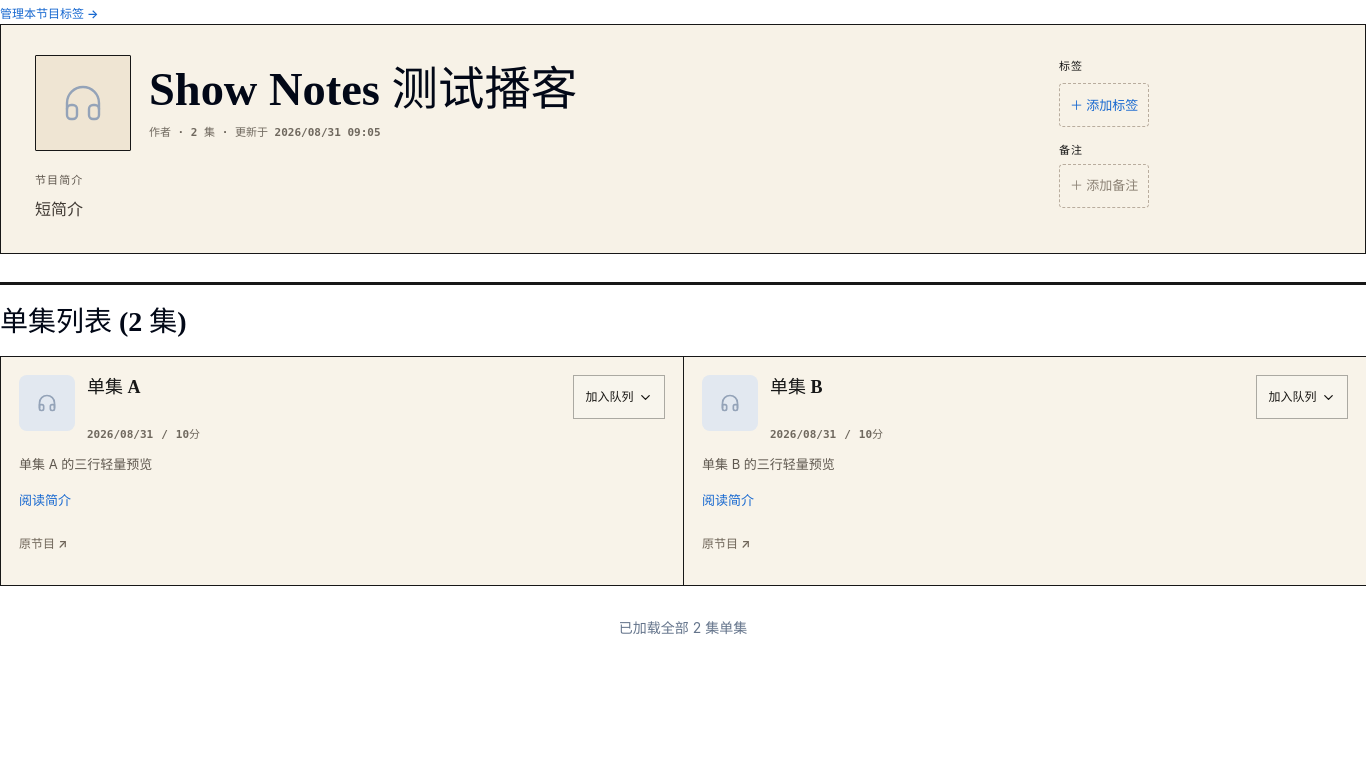
Test: podcast detail Show Notes user flow › keeps a late A response from replacing the active B card or reopening a collapsed card
Click the button "阅读简介" below "单集 A 的三行轻量预览" at (45, 500), box [19, 478, 71, 522]
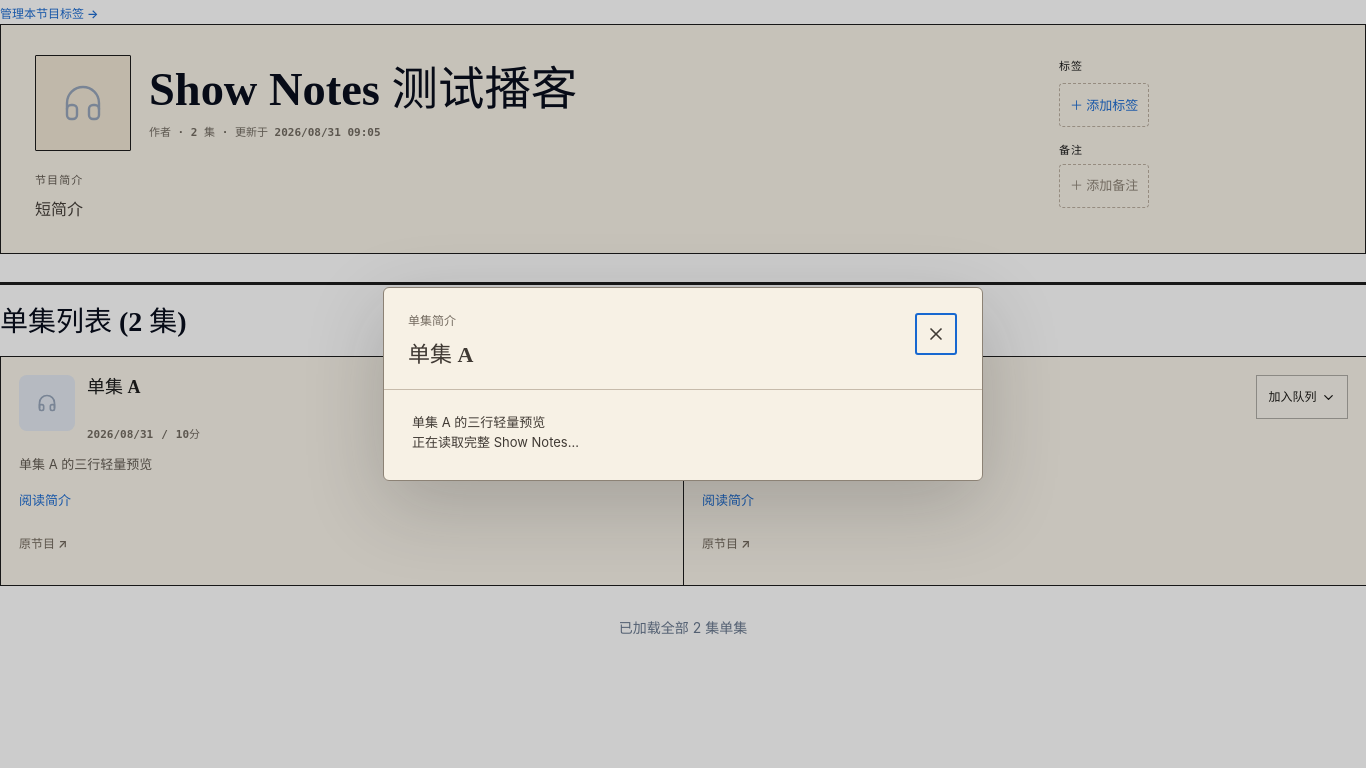
Click the button named "关闭简介" at (936, 334), box [914, 312, 958, 356]
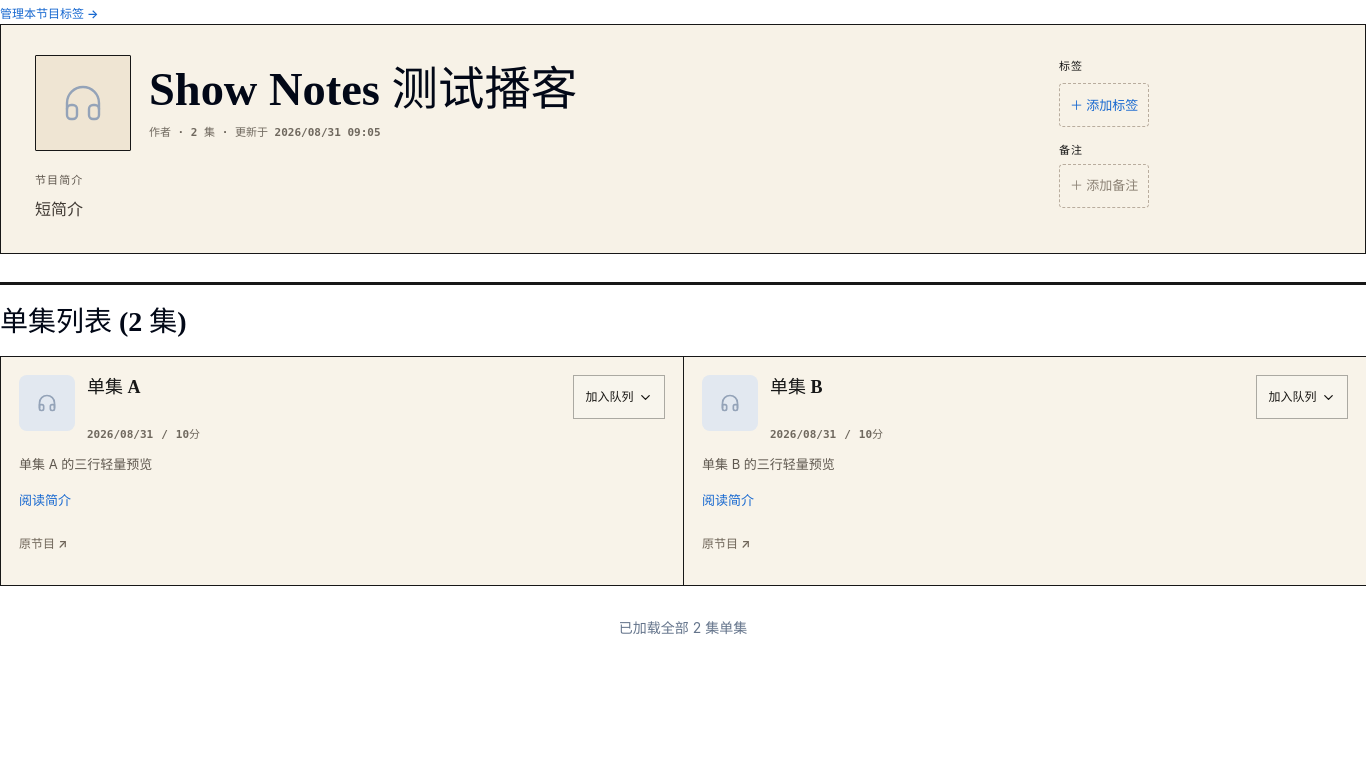
Now the dialog is gone
Click the button "阅读简介" below "单集 B 的三行轻量预览" at (728, 500), box [702, 478, 754, 522]
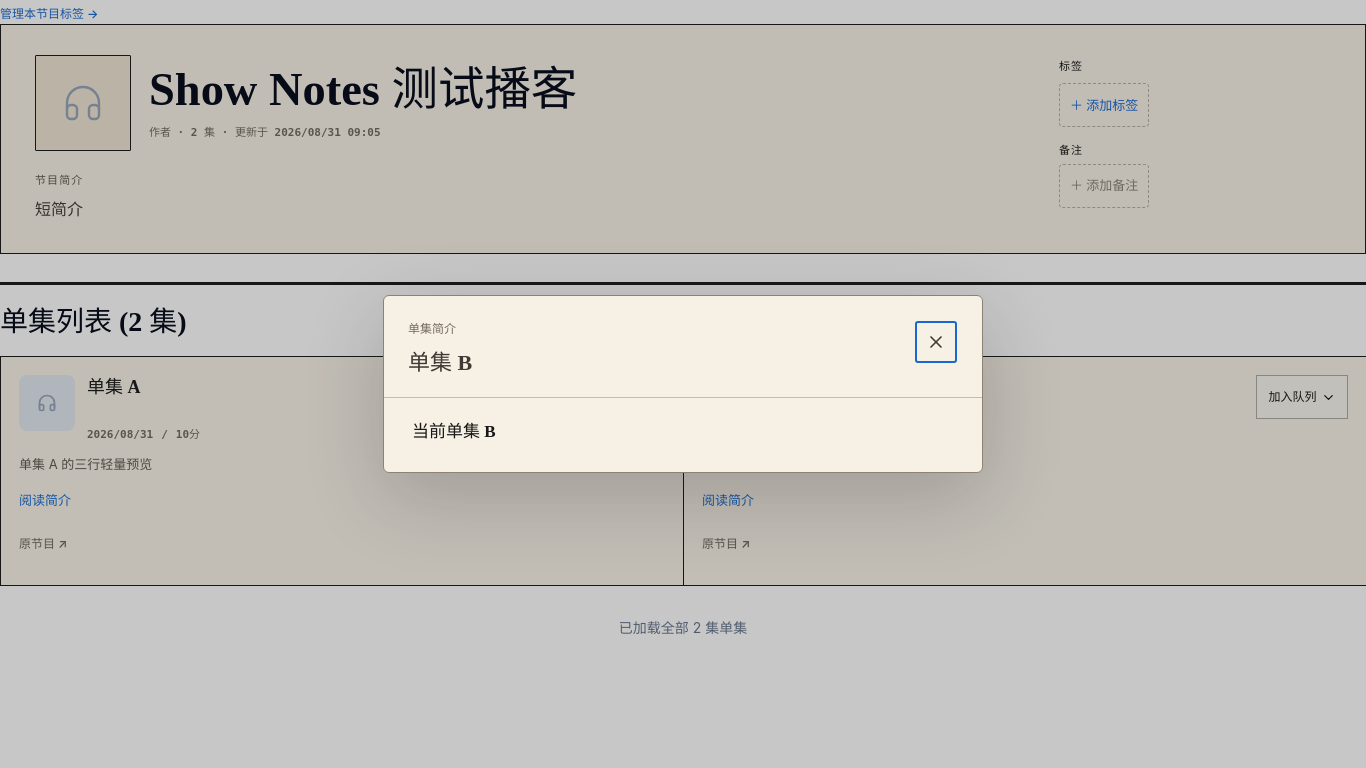
Expected: the button "阅读简介" below "单集 A 的三行轻量预览" is shown, [19, 478, 71, 522]
Now the heading "当前单集 B" is shown, box [412, 422, 496, 441]
